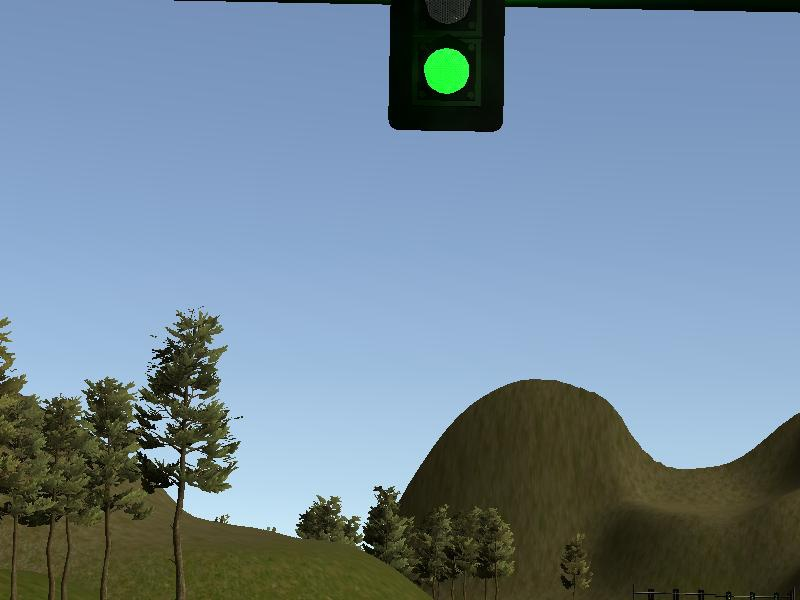Green: (386, 1, 505, 134)
